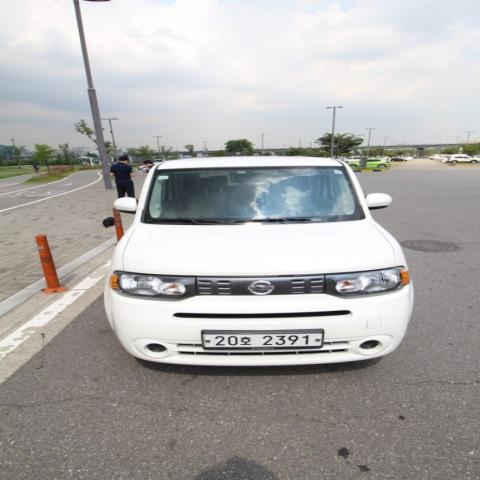LP: (195, 324, 332, 358)
